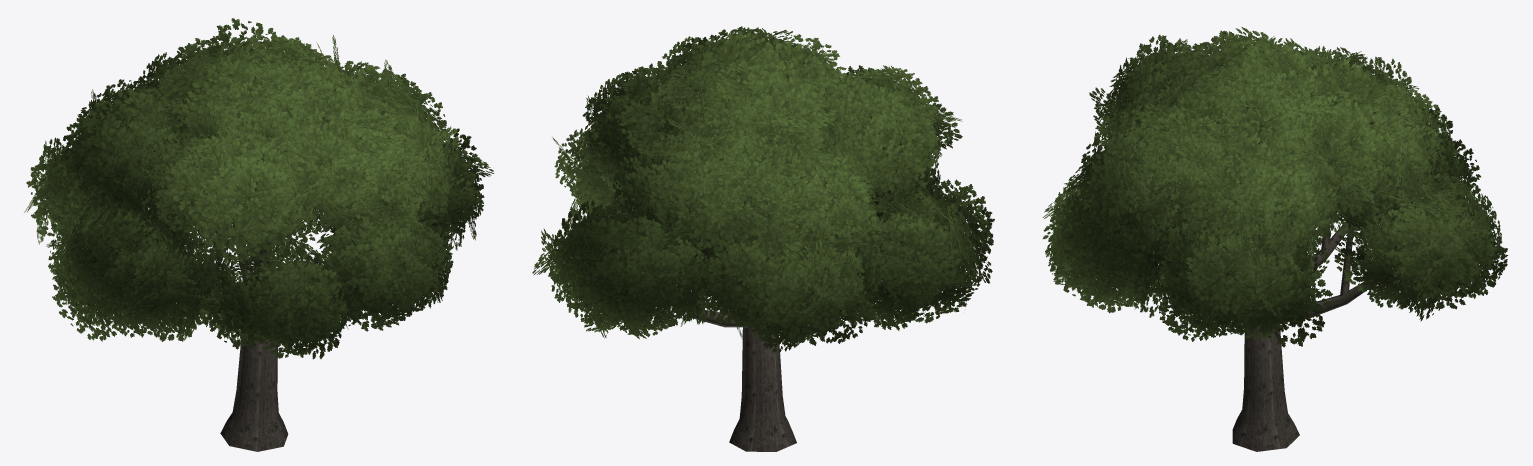
Rendered from tree-oak.glb.
3 views of the same model, side by side, from view 1: azimuth 30°, elevation 25°; view 2: azimuth 150°, elevation 25°; view 3: azimuth 270°, elevation 25° (orthographic).
Parts seen in each view (by area): view 1: tree-oak; view 2: tree-oak; view 3: tree-oak.
Boxes of the visible parts, x1,y1,x2,y2 form: tree-oak: [24, 18, 494, 451]; tree-oak: [532, 26, 994, 451]; tree-oak: [1042, 27, 1508, 451].
Bounding box in the file's own units: 10.3 × 9.31 × 9.82.
Materials: 2 (2 with a texture image).
